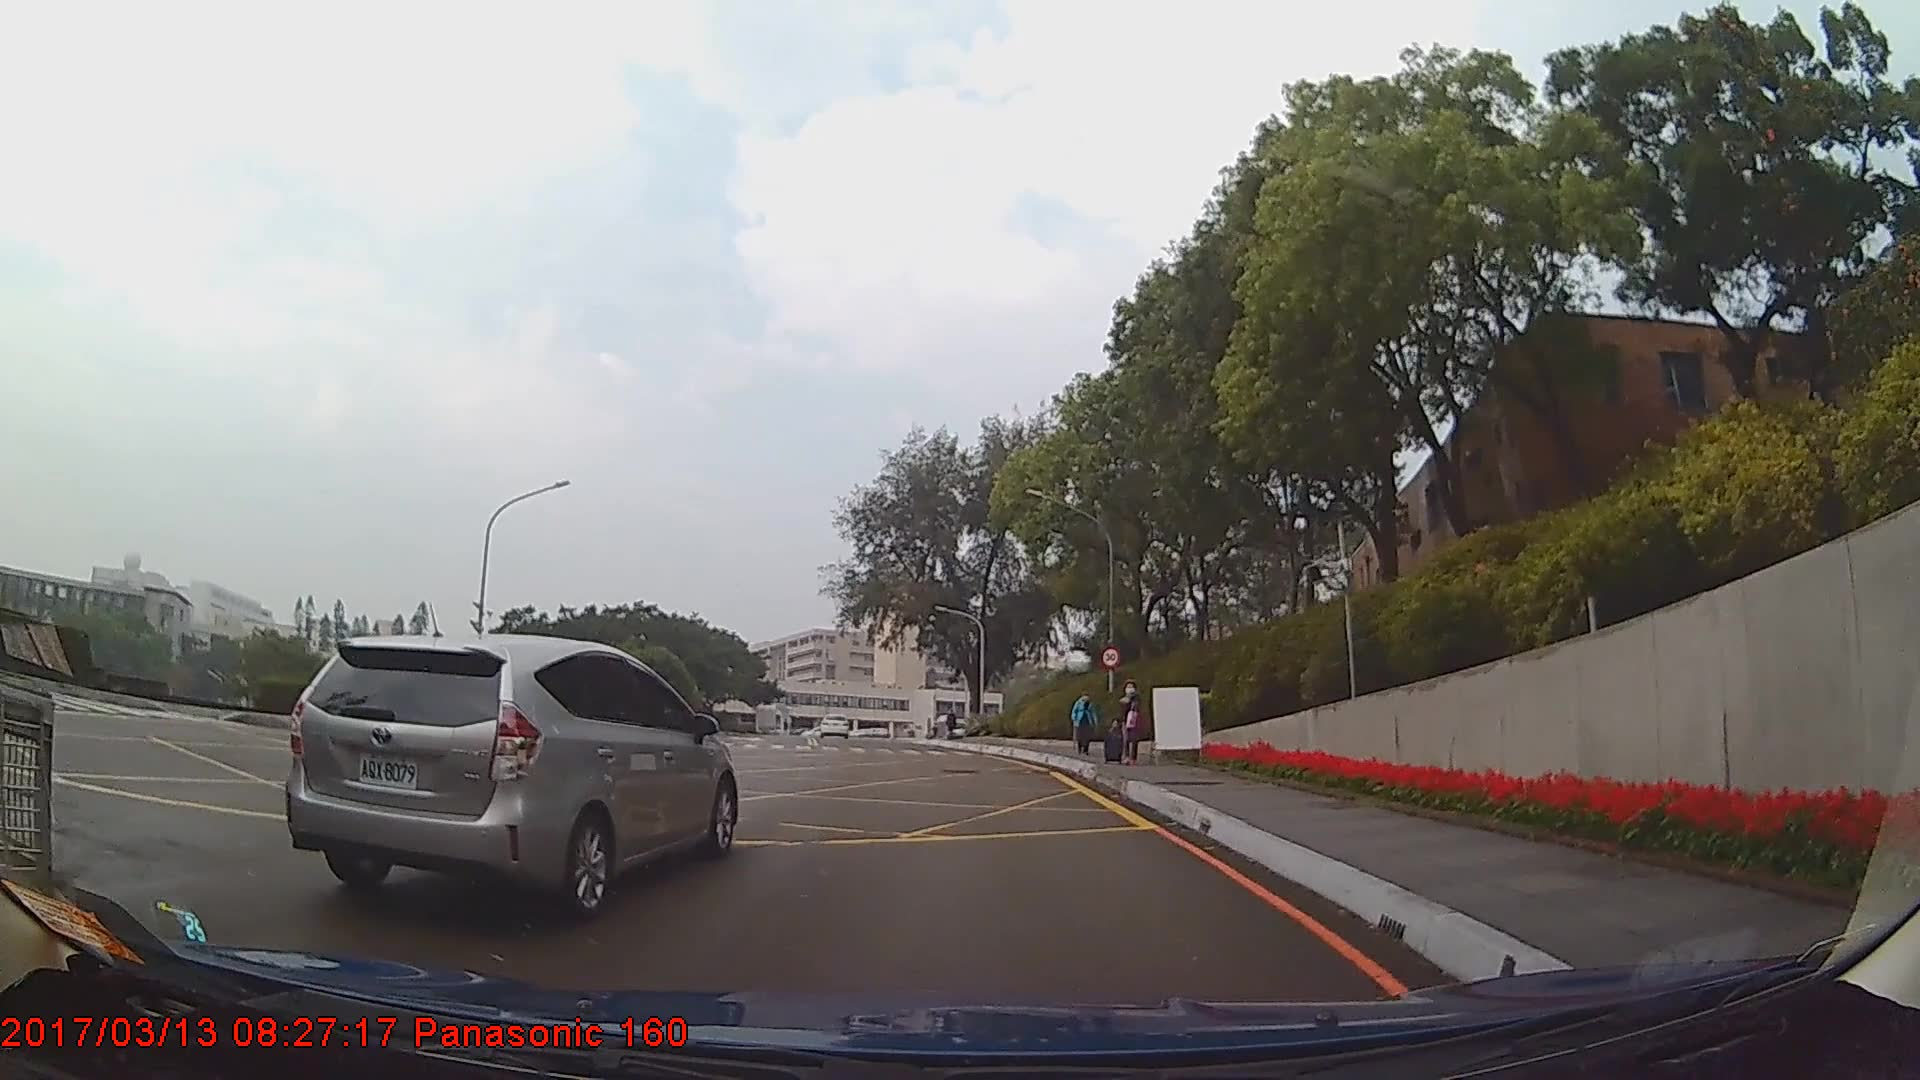pedestrian: (1104, 685, 1145, 766), (1068, 692, 1095, 759)
vehicle: (280, 631, 741, 921), (817, 711, 851, 738)
